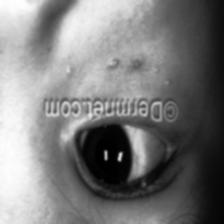Toxin: (63, 52, 174, 86), (0, 112, 4, 129)
